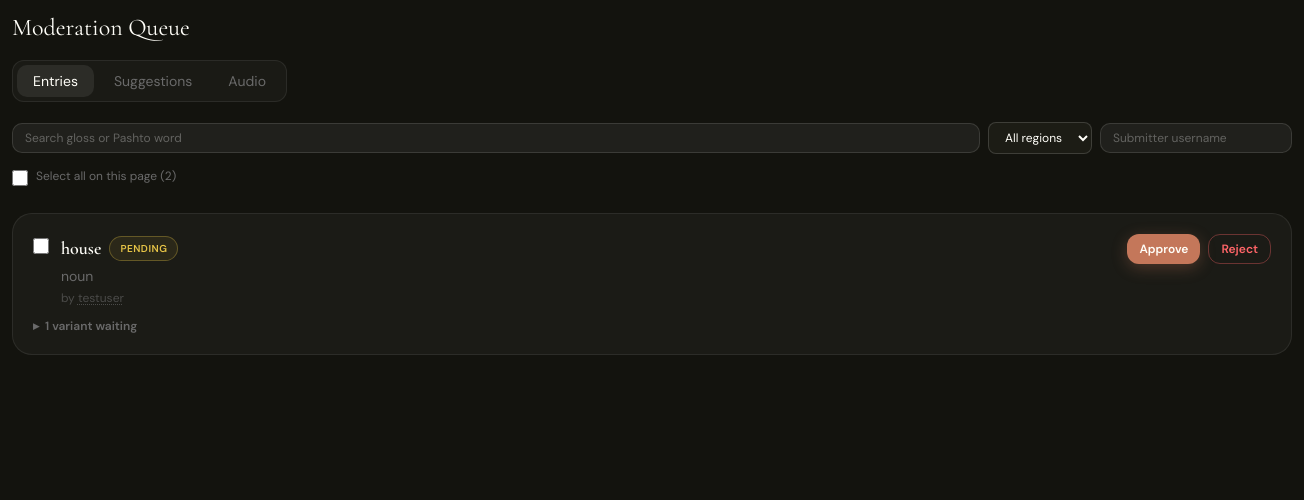
Grouped queue — concept rows with variant dropdowns › disables variant Approve with a hint while the concept is pending
Click the button "▸ 1 variant waiting": coordinates (85, 326) x1=33 y1=318 x2=137 y2=334
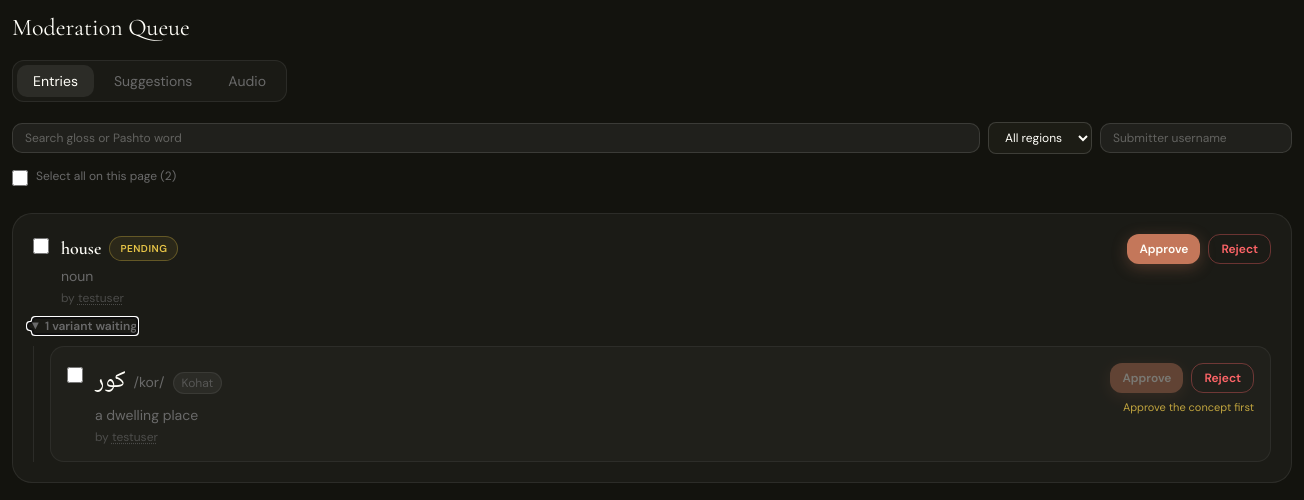
Now the button "Approve" in the row of "Kohat" is disabled, box x1=1110 y1=363 x2=1183 y2=393
Now the text "Approve the concept first" is shown, box x1=1123 y1=399 x2=1254 y2=416
Now the button "Reject" in the row of "Kohat" is enabled, box x1=1191 y1=363 x2=1254 y2=393
